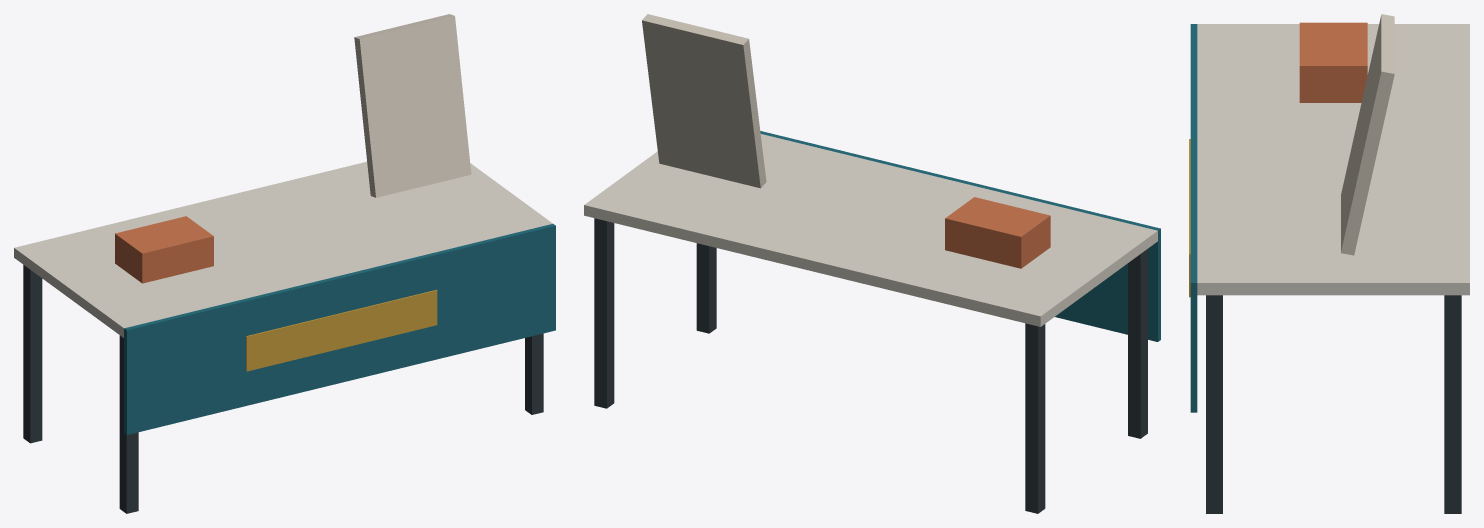
File: stall.glb
The picture shows the model from 3 angles, left to right: view 1: azimuth 30°, elevation 25°; view 2: azimuth 150°, elevation 25°; view 3: azimuth 270°, elevation 25°; orthographic projection. The views are drawn at different scales.
Visible parts, largest first — view 1: stall; view 2: stall; view 3: stall.
Part boxes in pixels (<box>): stall: <box>14,14,555,513</box>; stall: <box>584,14,1160,513</box>; stall: <box>1189,14,1469,513</box>.
Size of the model in its own units: 1.8 by 1.4 by 0.8249.
